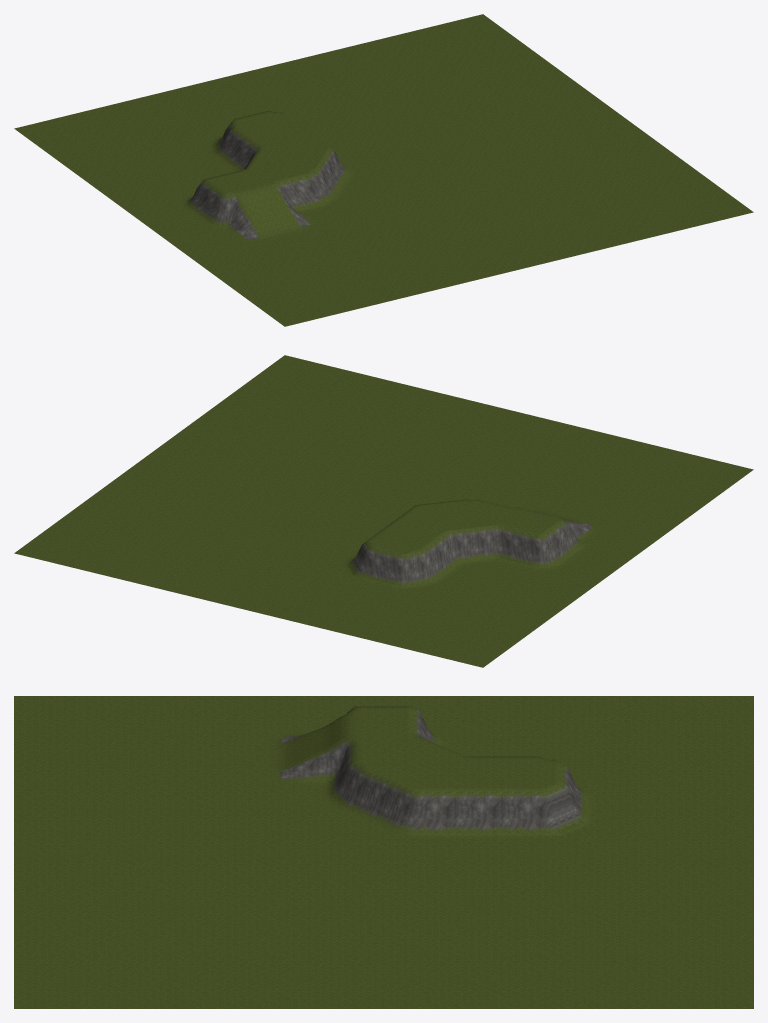
Rendered from Forest.gltf.
The picture shows the model from 3 angles, top to bottom: view 1: azimuth 30°, elevation 25°; view 2: azimuth 150°, elevation 25°; view 3: azimuth 270°, elevation 25°; orthographic projection. The views are drawn at different scales.
Parts seen in each view (by area): view 1: GroundChunk; view 2: GroundChunk; view 3: GroundChunk.
Part boxes in pixels (left/top/right/bottom): GroundChunk: left=14, top=14, right=753, bottom=326; GroundChunk: left=14, top=355, right=753, bottom=667; GroundChunk: left=14, top=696, right=753, bottom=1008.
Size of what is drawn, in the model's own units: 100 by 5 by 100.
2 materials, 2 textured.
